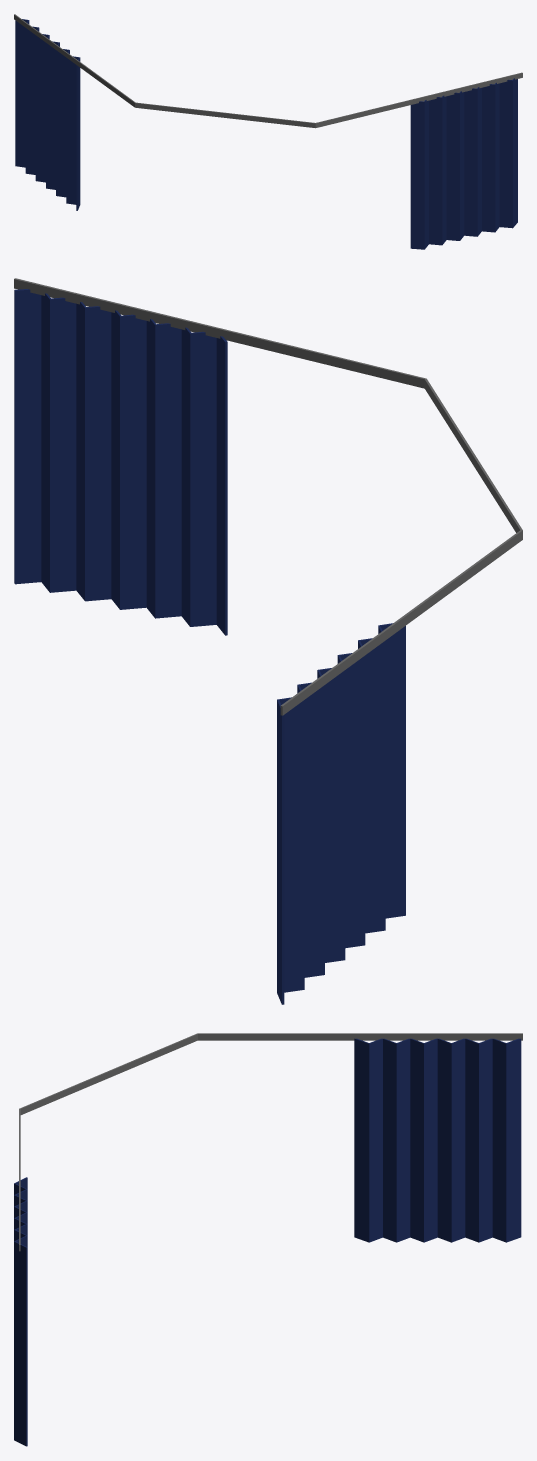
File: curtains-hospital.fbx
3 renders of one model, top to bottom at view 1: azimuth 30°, elevation 25°; view 2: azimuth 150°, elevation 25°; view 3: azimuth 270°, elevation 25°, orthographic. The views are drawn at different scales.
Visible parts, largest first — view 1: curtains-hospital; view 2: curtains-hospital; view 3: curtains-hospital.
Part boxes in pixels (<box>): curtains-hospital: <box>14,14,522,249</box>; curtains-hospital: <box>14,278,522,1004</box>; curtains-hospital: <box>14,1033,522,1446</box>.
Bounding box in the file's own units: 854 × 383 × 869.
